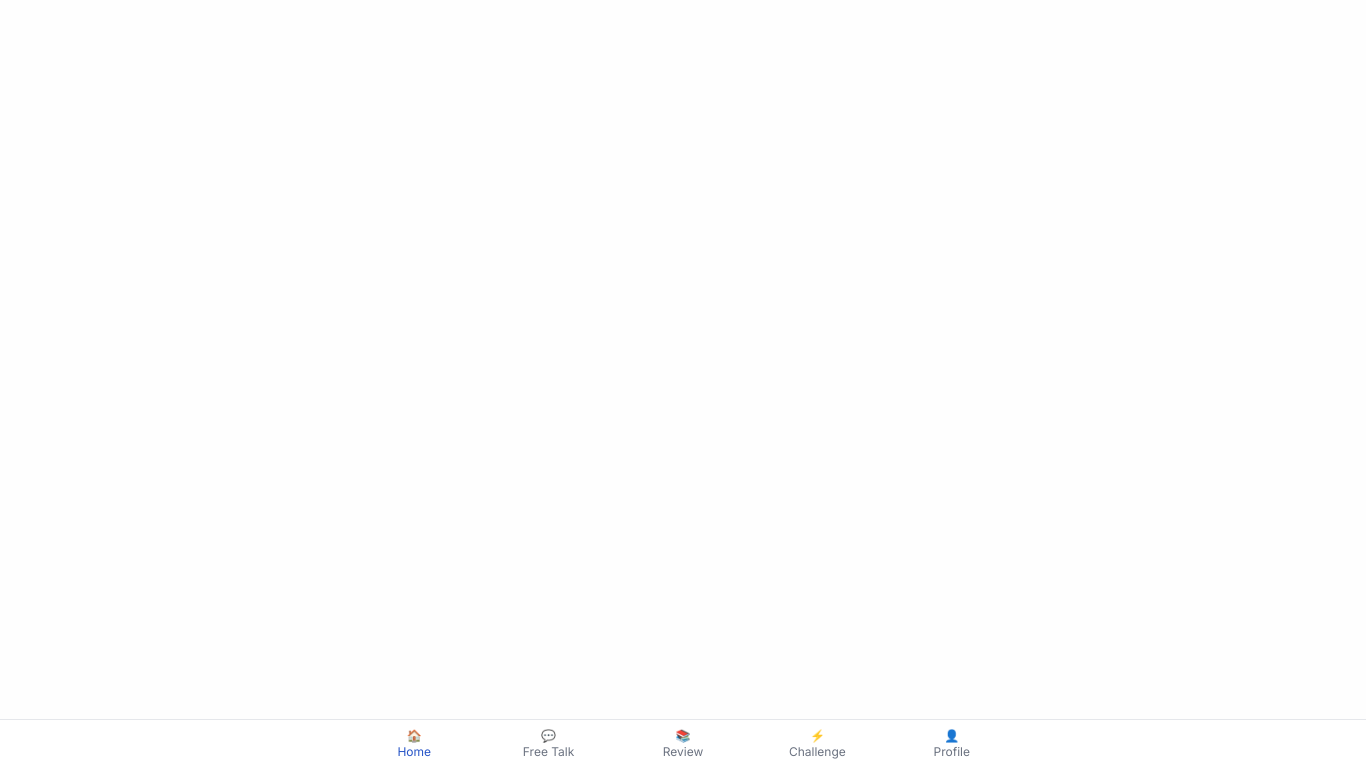
Test case: TutorFooterNav › clicking Challenge opens the ComingSoon sheet
Step 1. Click the text "Challenge" → (817, 752), box [789,744,846,760]
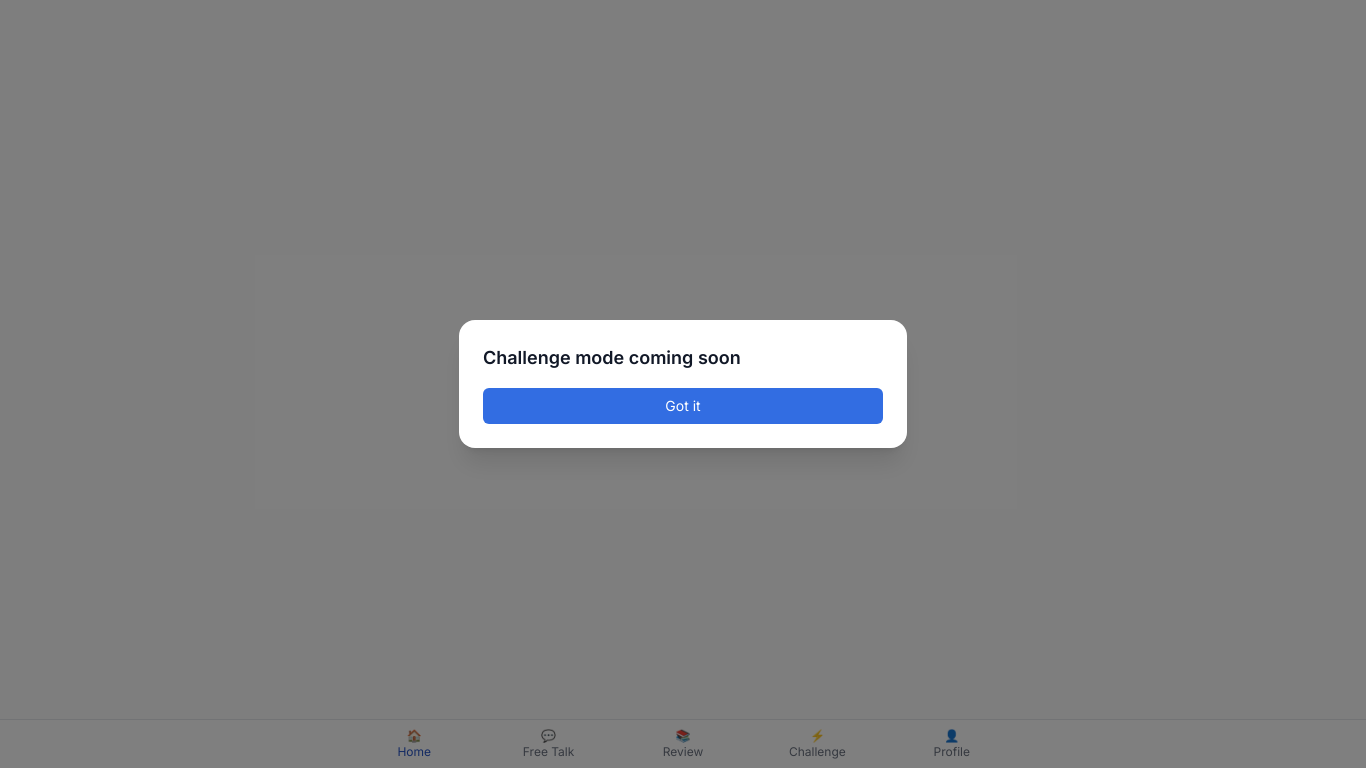
expect the heading "Challenge mode coming soon" is shown: met, box [483,347,741,368]
